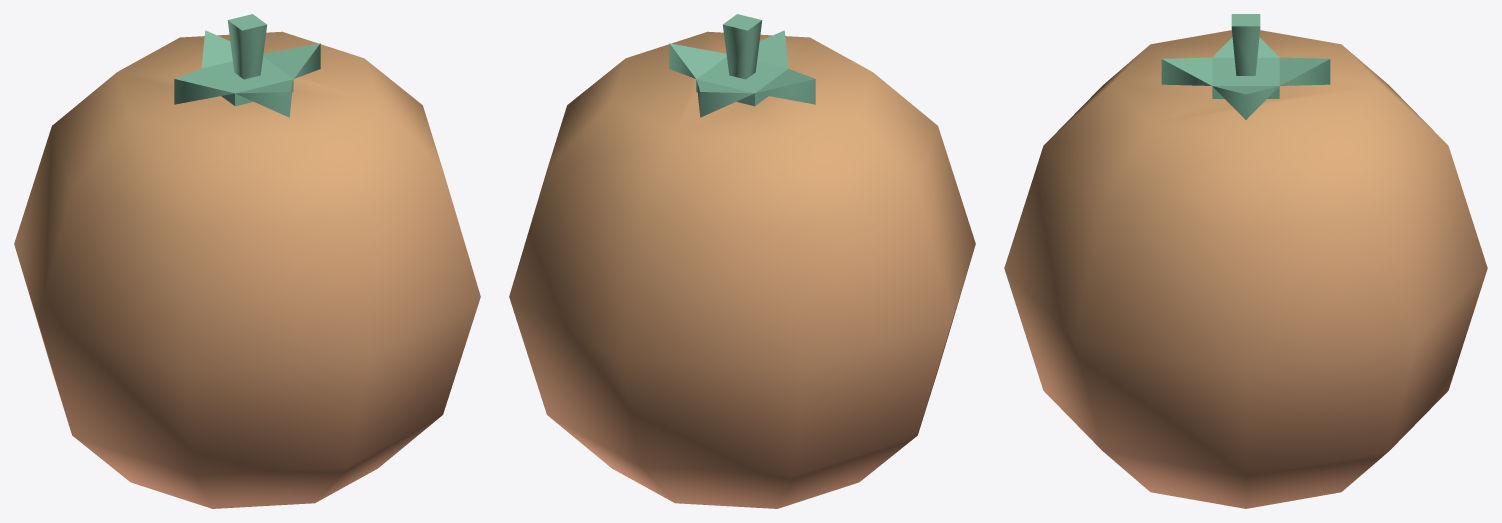
The model's file is orange.glb.
The picture shows the model from 3 angles, left to right: view 1: azimuth 30°, elevation 25°; view 2: azimuth 150°, elevation 25°; view 3: azimuth 270°, elevation 25°; orthographic projection.
Parts seen in each view (by area): view 1: orange; view 2: orange; view 3: orange.
Part boxes in pixels (<box>): orange: <box>14,14,480,508</box>; orange: <box>509,14,975,508</box>; orange: <box>1004,14,1487,508</box>.
Bounding box in the file's own units: 0.1697 × 0.1672 × 0.1697.
